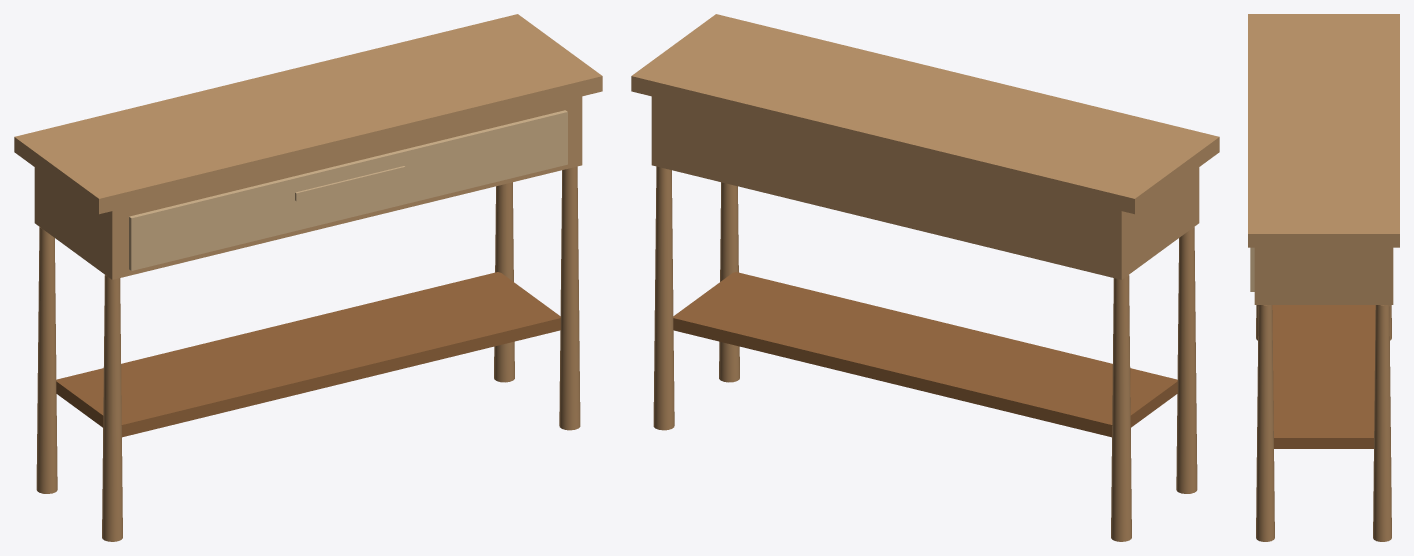
The model's file is console.glb.
3 renders of one model, left to right at view 1: azimuth 30°, elevation 25°; view 2: azimuth 150°, elevation 25°; view 3: azimuth 270°, elevation 25°, orthographic. The views are drawn at different scales.
Parts seen in each view (by area): view 1: material-0-top, material-4-trim, material-2-drawer, material-3-leg, material-1-body; view 2: material-0-top, material-1-body, material-4-trim, material-3-leg; view 3: material-0-top, material-4-trim, material-3-leg, material-1-body, material-2-drawer.
Boxes of the visible parts, box(x1,y1,x2,y2) form: material-0-top: box(14, 14, 602, 214); material-4-trim: box(56, 272, 560, 437); material-2-drawer: box(129, 110, 567, 270); material-3-leg: box(36, 166, 580, 541); material-1-body: box(34, 96, 582, 279); material-0-top: box(631, 14, 1219, 214); material-1-body: box(651, 96, 1199, 279); material-4-trim: box(673, 272, 1177, 437); material-3-leg: box(653, 166, 1197, 541); material-0-top: box(1248, 14, 1399, 247); material-4-trim: box(1272, 305, 1375, 448); material-3-leg: box(1256, 305, 1391, 541); material-1-body: box(1254, 247, 1393, 304); material-2-drawer: box(1250, 247, 1254, 291).
Size of the model in its own units: 1.2 by 0.8 by 0.35.
